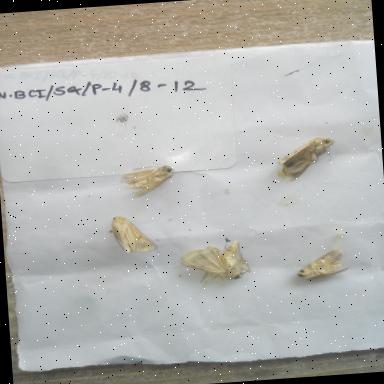abw: (172, 232, 258, 290), (264, 130, 344, 186), (110, 154, 184, 205), (100, 209, 164, 262), (286, 244, 362, 288)
